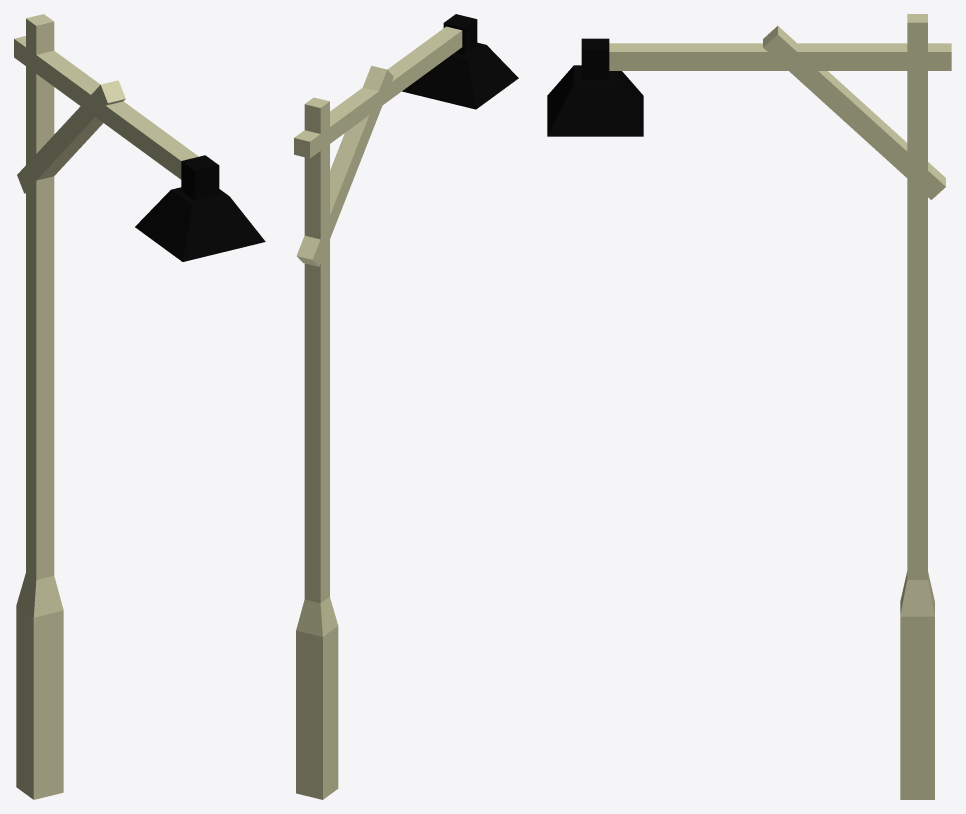
Rendered from roadlight.fbx.
3 views of the same model, side by side, from view 1: azimuth 30°, elevation 25°; view 2: azimuth 150°, elevation 25°; view 3: azimuth 270°, elevation 25° (orthographic). The views are drawn at different scales.
Parts seen in each view (by area): view 1: Cube.030, Cube.031; view 2: Cube.030, Cube.031; view 3: Cube.030, Cube.031.
Boxes of the visible parts, bbox=[...] form: Cube.030: bbox=[14, 14, 198, 799]; Cube.031: bbox=[135, 155, 265, 261]; Cube.030: bbox=[294, 26, 462, 799]; Cube.031: bbox=[402, 14, 518, 109]; Cube.030: bbox=[609, 14, 951, 799]; Cube.031: bbox=[547, 38, 643, 136].
Size of the model in its own units: 69.46 by 615 by 291.
